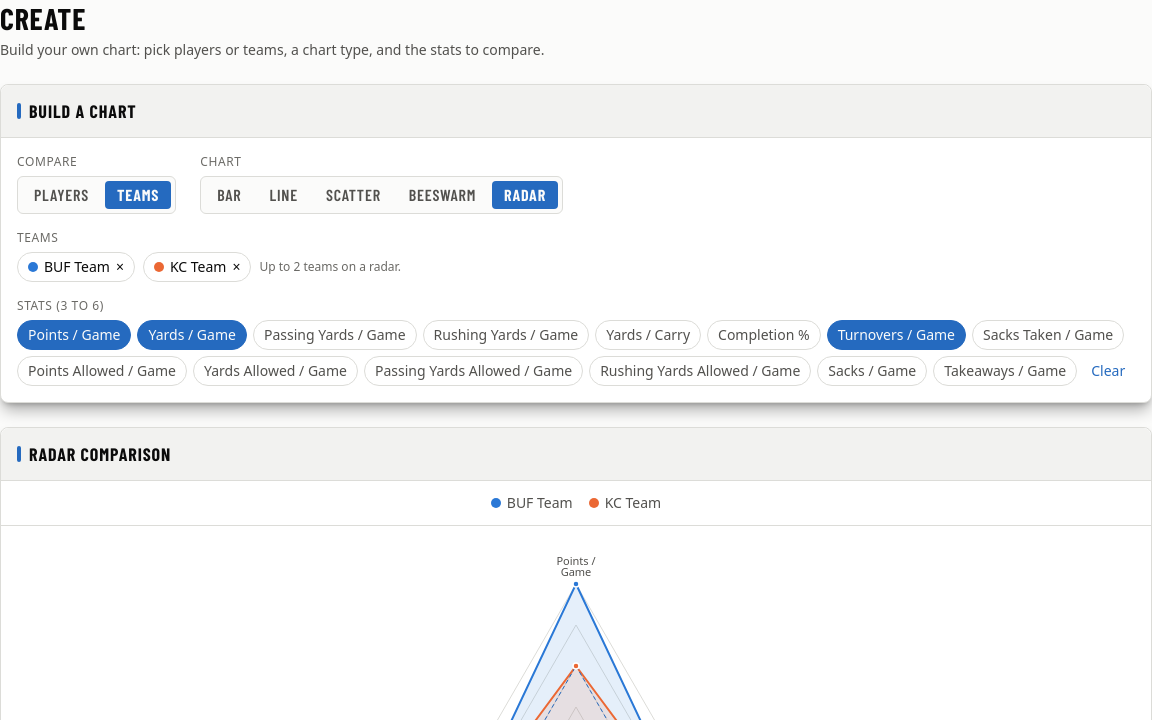
Test case: CreatePage › draws a radar of the picks' percentiles, and asks for a third stat with only two
The image size is (1152, 720).
Expected: the text "Stats (3 to 6)" is shown, [17,298,104,314]
What coordinates should you click on to do the following:
click the button "Yards / Game"
I would click on:
 (192, 335)
Its box is [138,320,247,350].
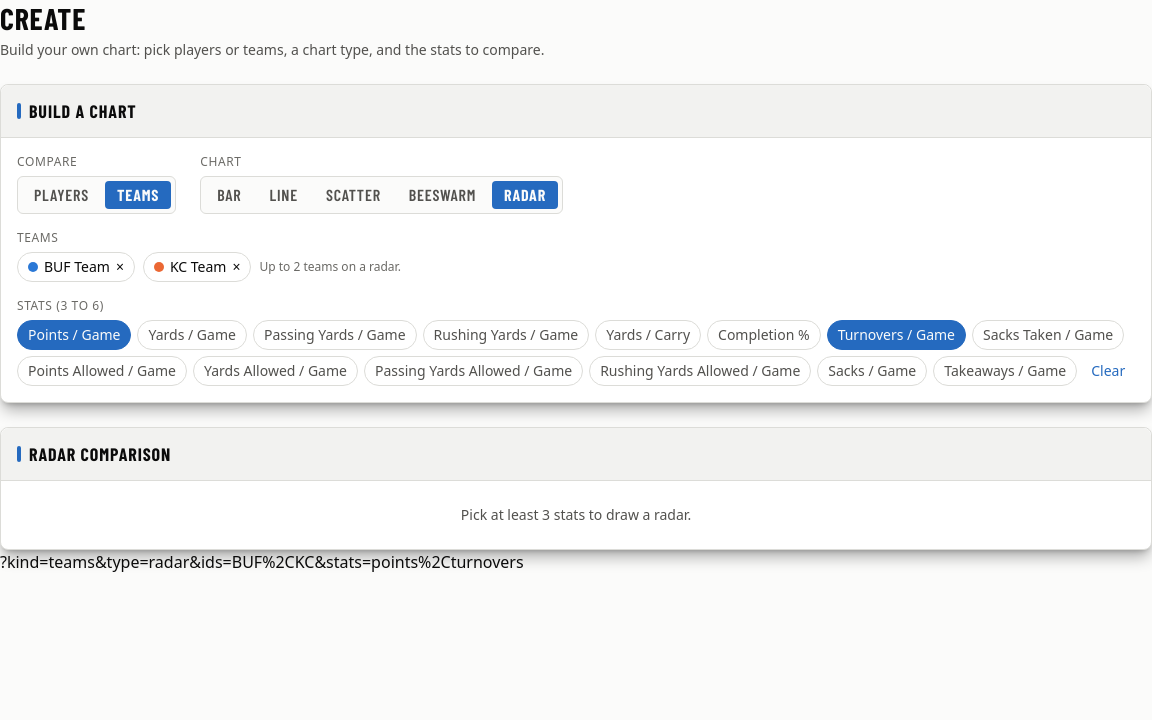
Result: the text "Pick at least 3 stats to draw a radar." is shown at [461,505,691,524]
